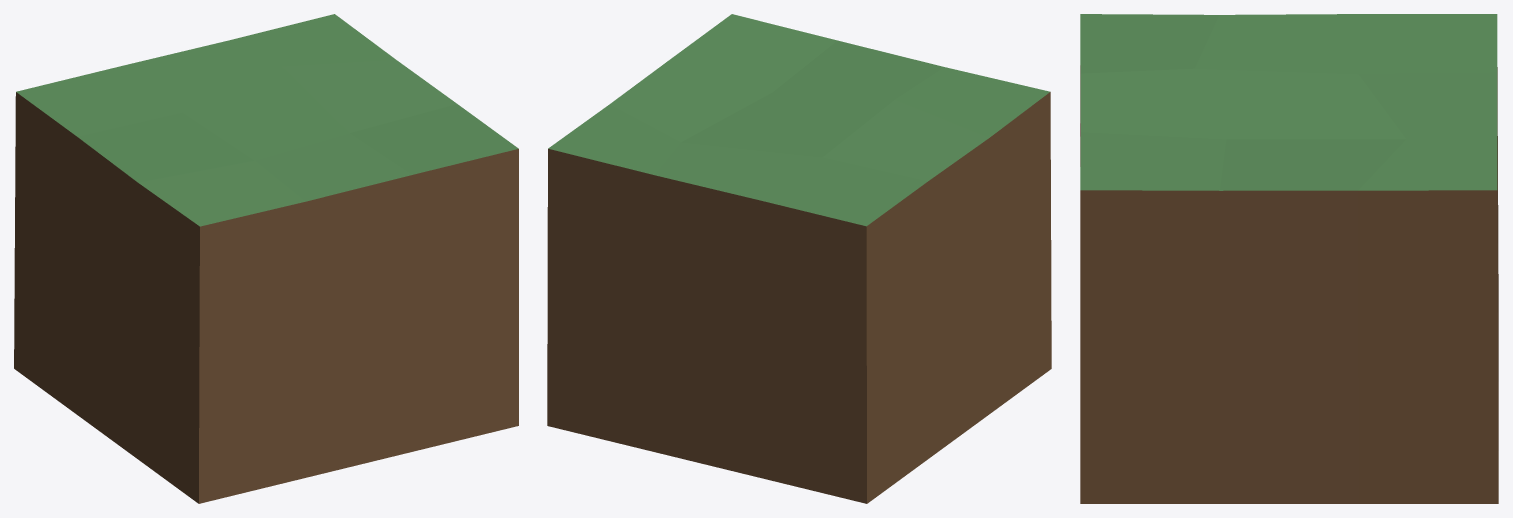
File: plat_terre_millieu_2.fbx
The picture shows the model from 3 angles, left to right: view 1: azimuth 30°, elevation 25°; view 2: azimuth 150°, elevation 25°; view 3: azimuth 270°, elevation 25°; orthographic projection. The views are drawn at different scales.
Parts seen in each view (by area): view 1: Plane; view 2: Plane; view 3: Plane.
Boxes of the visible parts, left/top/right/bottom form: Plane: left=14, top=14, right=518, bottom=503; Plane: left=547, top=14, right=1051, bottom=503; Plane: left=1080, top=14, right=1498, bottom=503.
Size of the model in its own units: 245 by 205 by 245.
